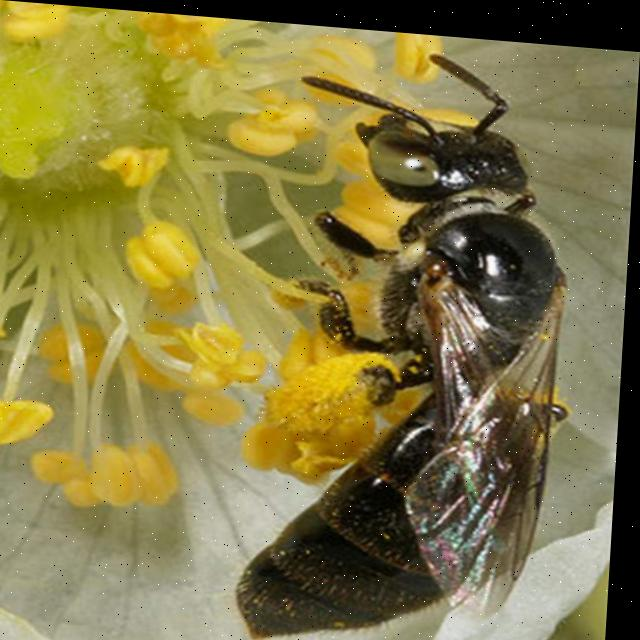Lasioglossum: (217, 26, 604, 640)
